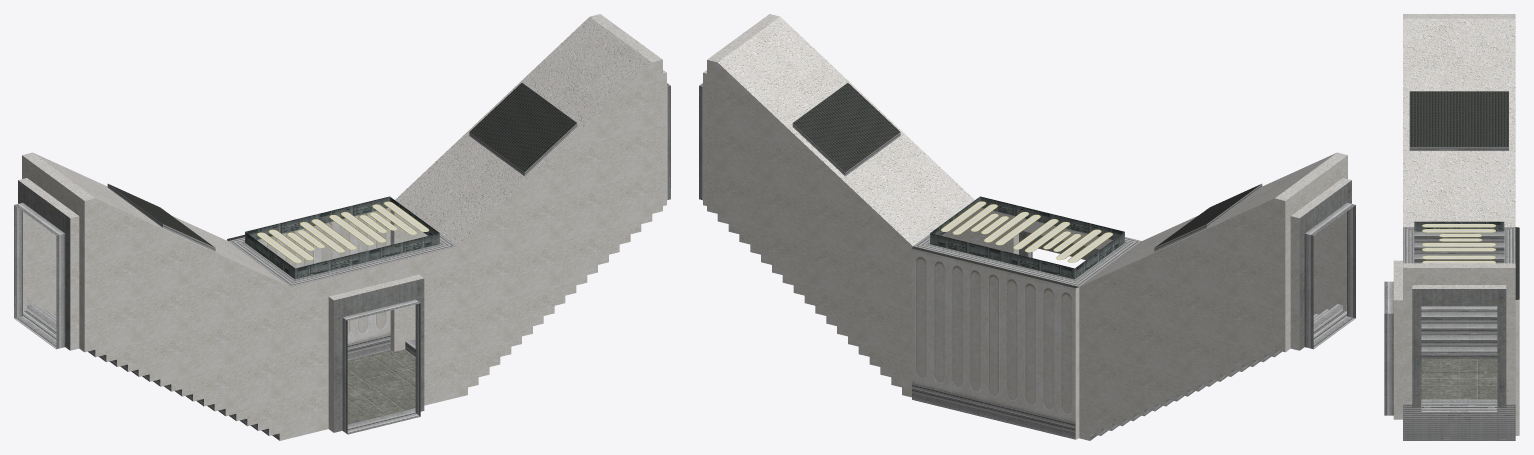
File: ply_all_house_lg_s01_fp1_r1_foyer1_mesh_r1.fbx
3 renders of one model, left to right at view 1: azimuth 30°, elevation 25°; view 2: azimuth 150°, elevation 25°; view 3: azimuth 270°, elevation 25°, orthographic. The views are drawn at different scales.
Visible parts, largest first — view 1: mesh_node; view 2: mesh_node; view 3: mesh_node.
Boxes of the visible parts, bbox=[...] form: mesh_node: bbox=[14, 14, 670, 440]; mesh_node: bbox=[699, 14, 1355, 440]; mesh_node: bbox=[1384, 14, 1519, 440].
Bounding box in the file's own units: 17 × 7.6 × 3.61.
